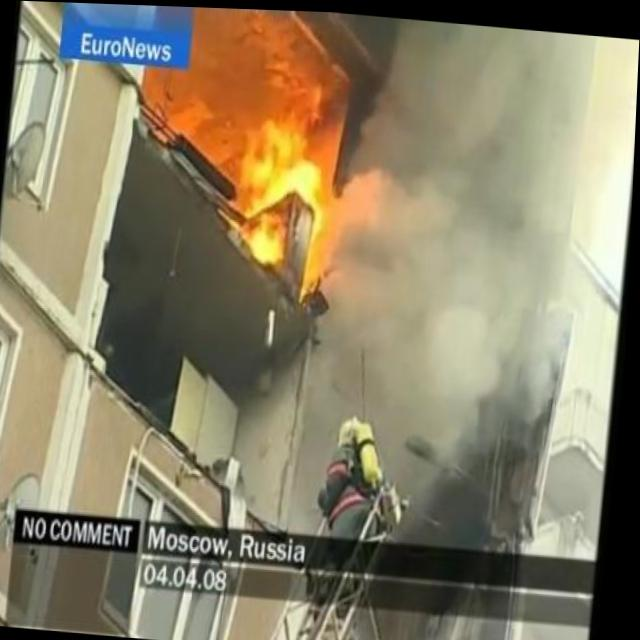fire: (220, 104, 339, 263)
